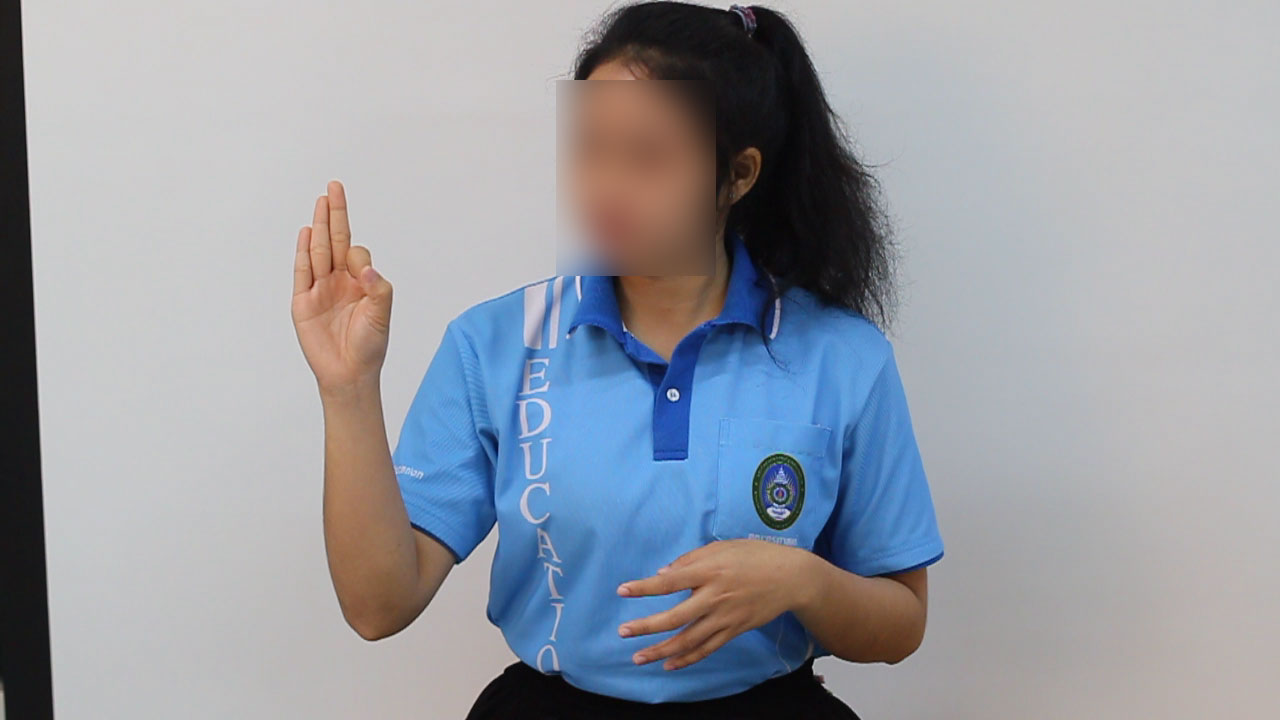for: (284, 172, 399, 416)
